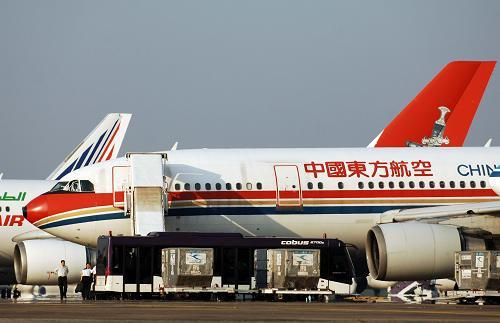airplane: (20, 107, 500, 282)
